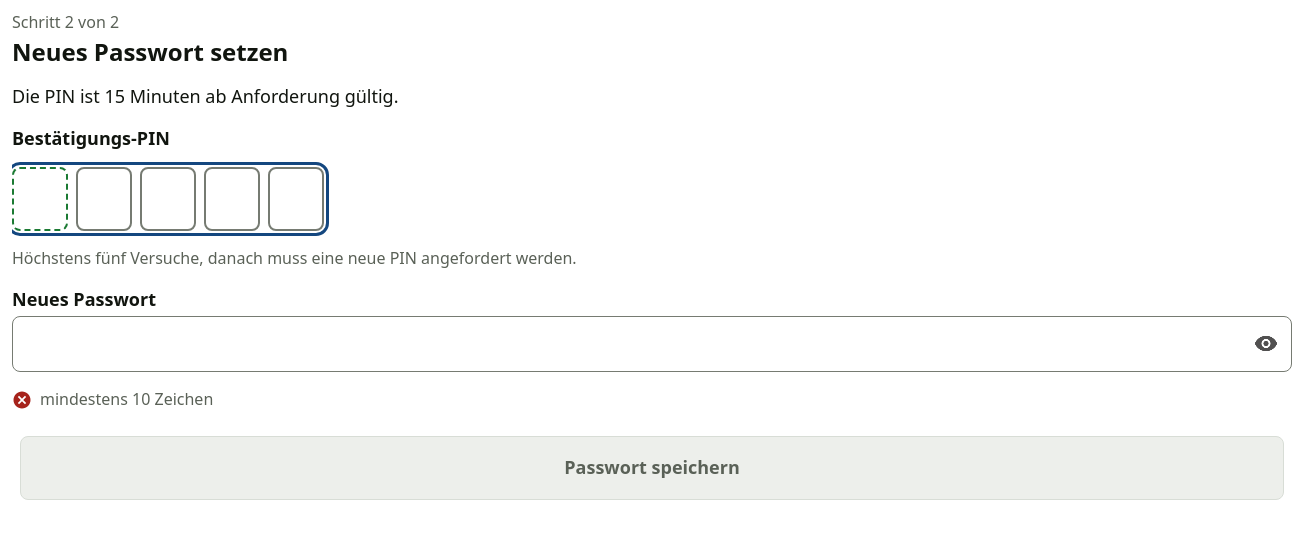
Test case: PasswortNeu › Fehler › 401 RESET_PIN_FALSCH: Text am PIN-Feld, PIN leer, Passwort bleibt, Fokus im PIN-Feld
The width and height of the screenshot is (1304, 556).
Type "99999" into the field with test id "reset-pin-feld". click: {"x": 168, "y": 199}
box: 12,167 -> 324,231
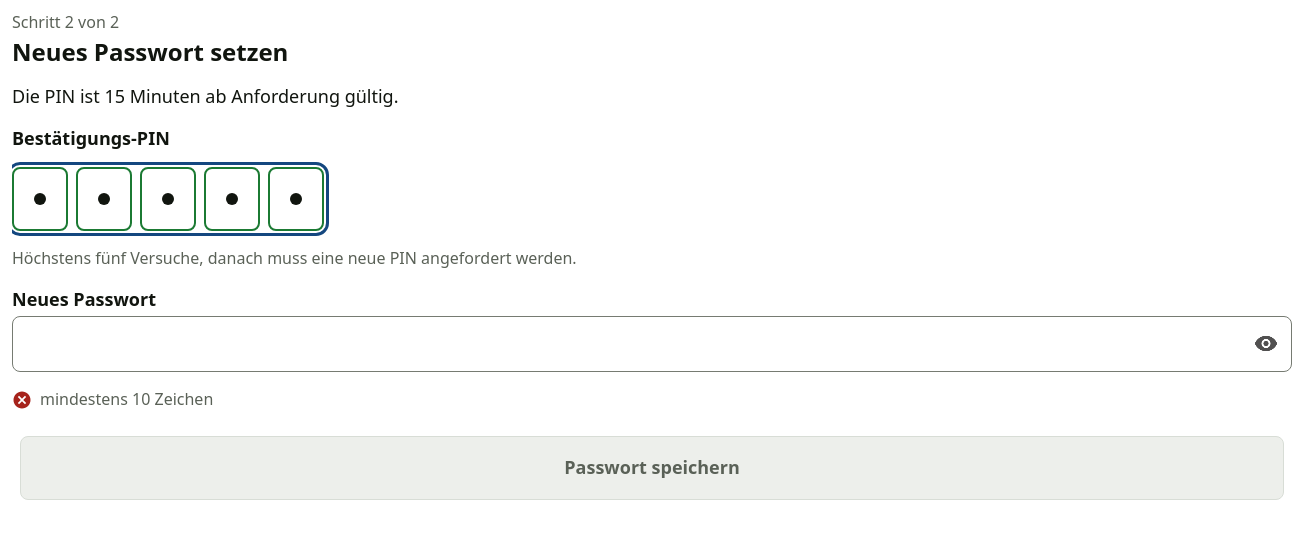
Type "beispiel-passwort-02" into the password field with test id "passwort-neu-passwort". click: {"x": 652, "y": 344}
box: 12,316 -> 1292,372
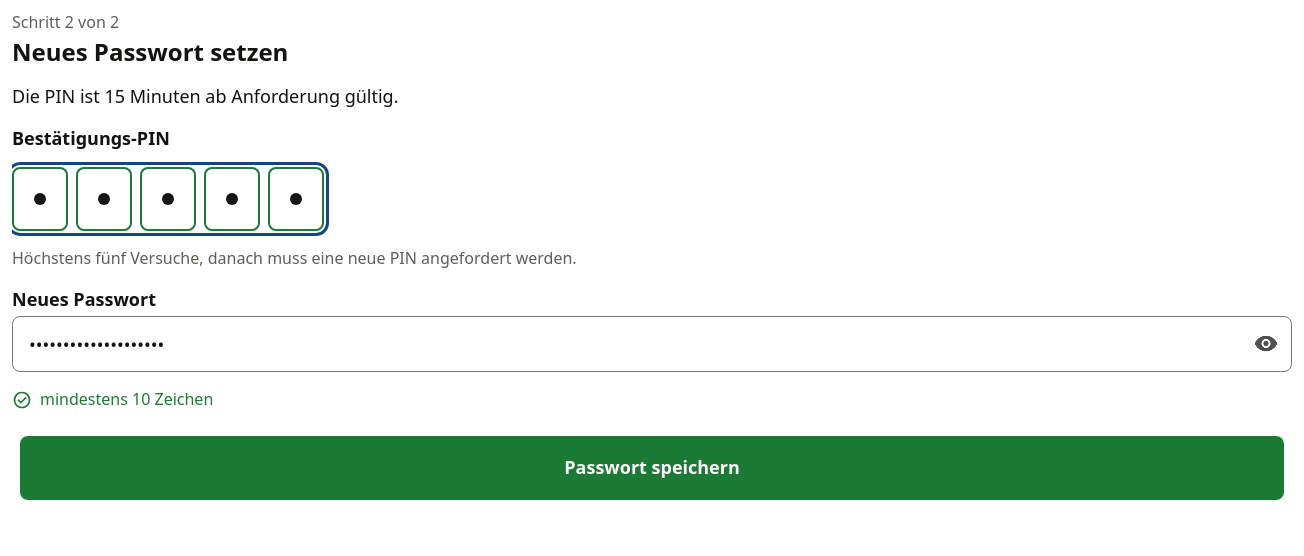
Click the button with test id "passwort-neu-absenden". click: {"x": 652, "y": 468}
box: 20,436 -> 1284,500
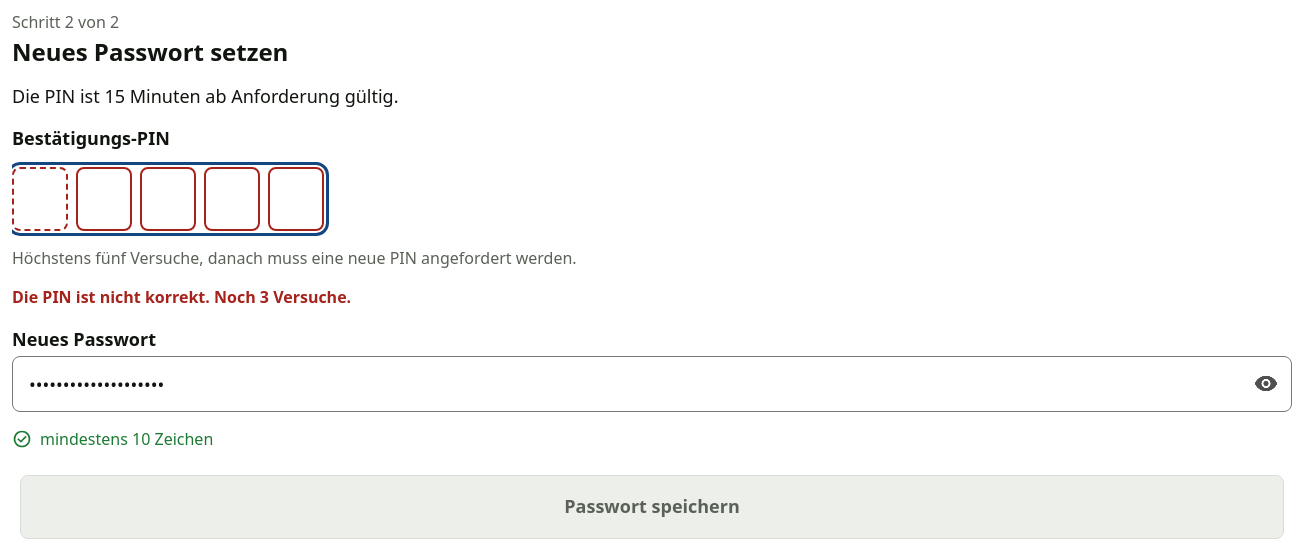
Expected: the text with test id "reset-pin-feld-fehler" reads "Die PIN ist nicht korrekt. Noch 3 Versuche.", 12,286 -> 351,308
Expected: the field with test id "reset-pin-feld" is empty, 12,167 -> 324,231
